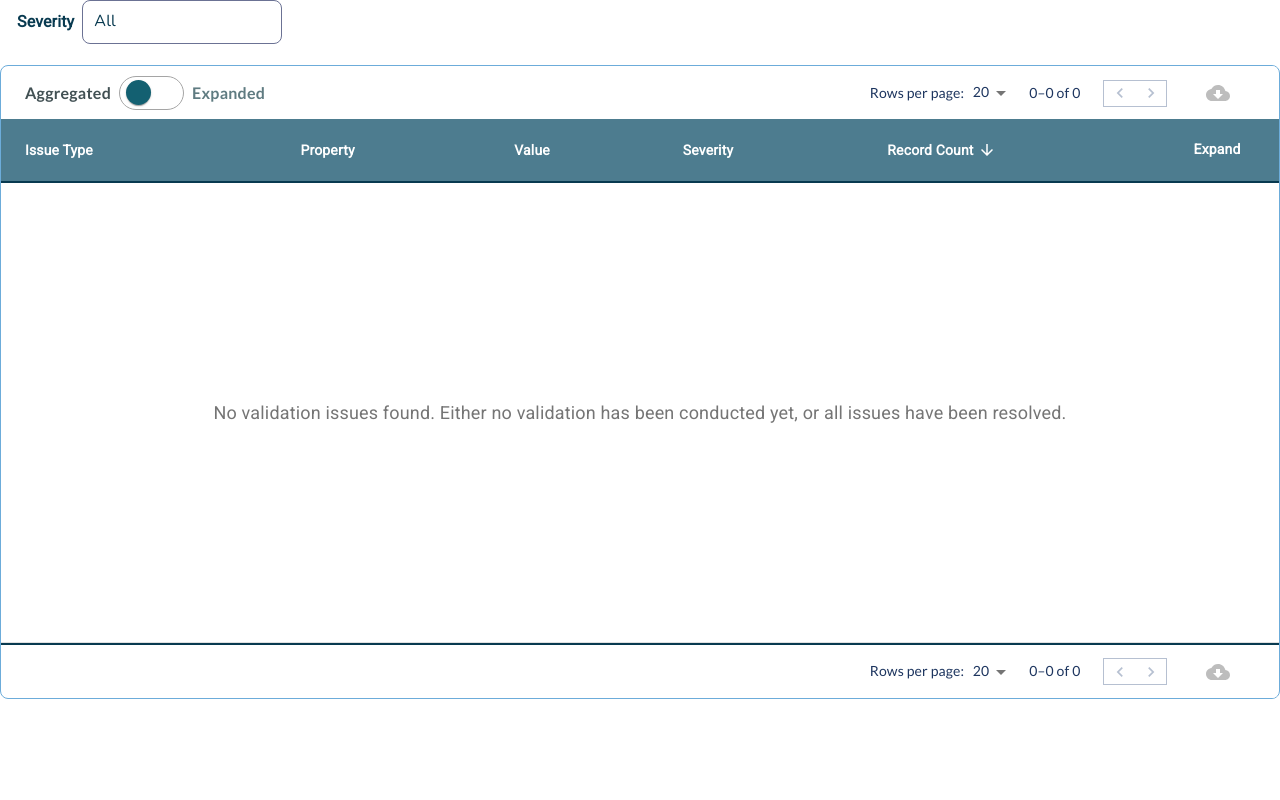
Implementation Requirements › should show tooltip on 'other #' with correct message in Expanded view
The width and height of the screenshot is (1280, 800).
Click the checkbox: (138, 92) [126,80,151,104]
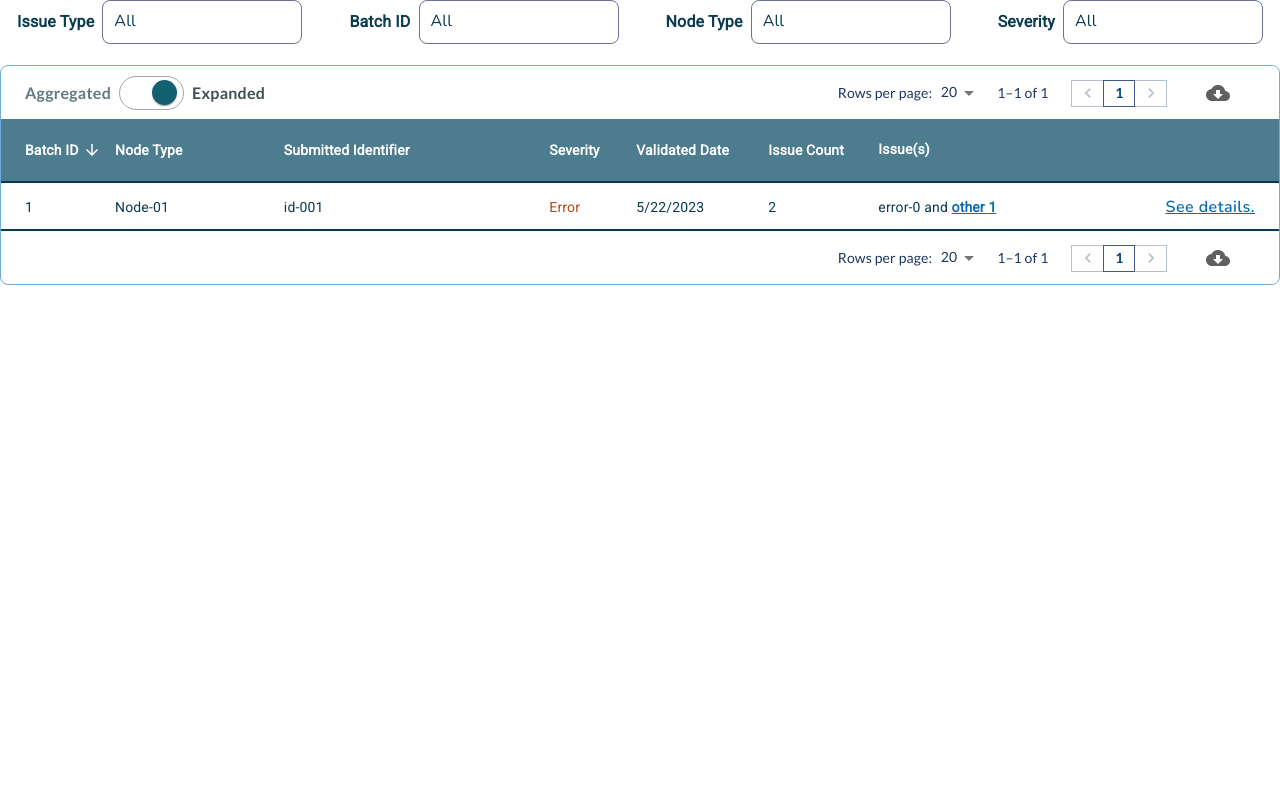
Hover over the text with test id "others-text": (970, 207) [952,199,996,215]
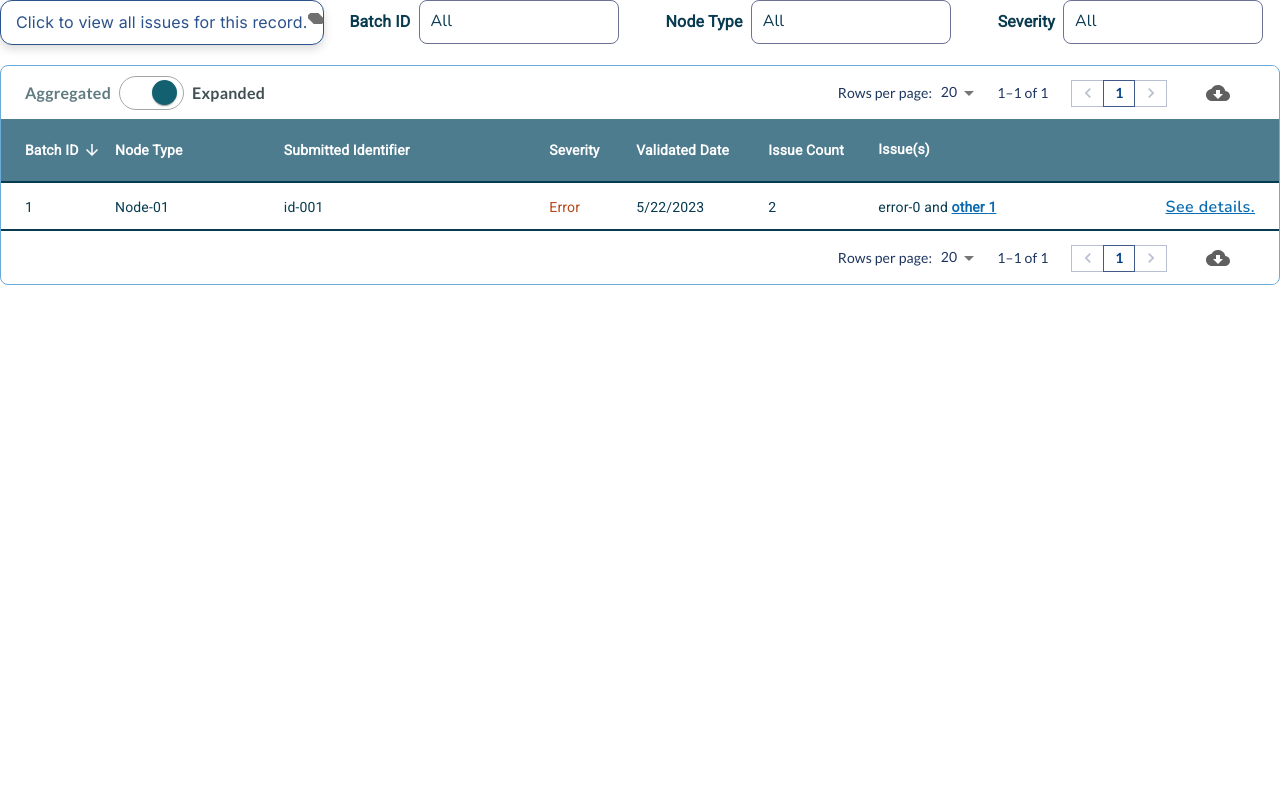
Now the text "Click to view all issues for this record." is shown, box [0,0,324,45]
